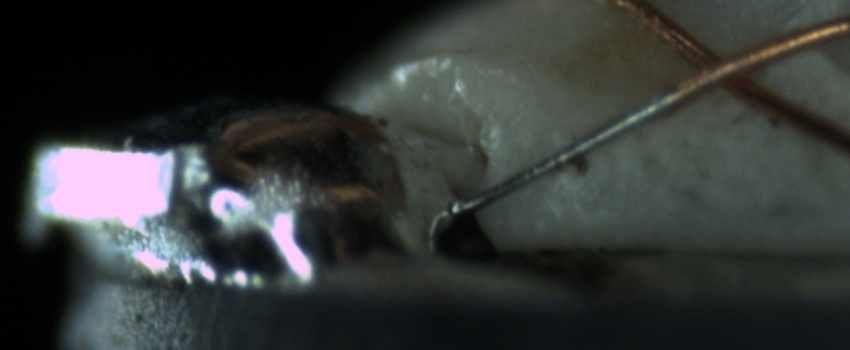CL: (674, 34, 775, 104)
TS: (446, 88, 677, 217)
TTCW: (437, 57, 700, 229)
